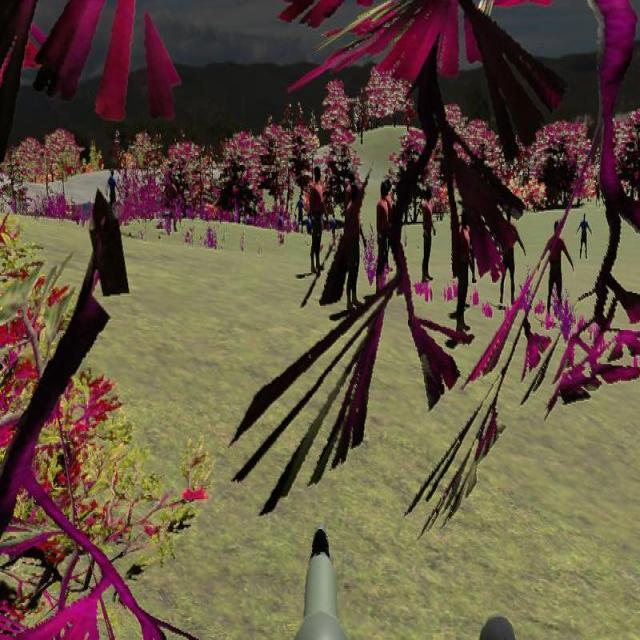Human: (340, 174, 367, 316), (306, 165, 327, 276), (375, 179, 391, 288), (420, 183, 436, 283)
